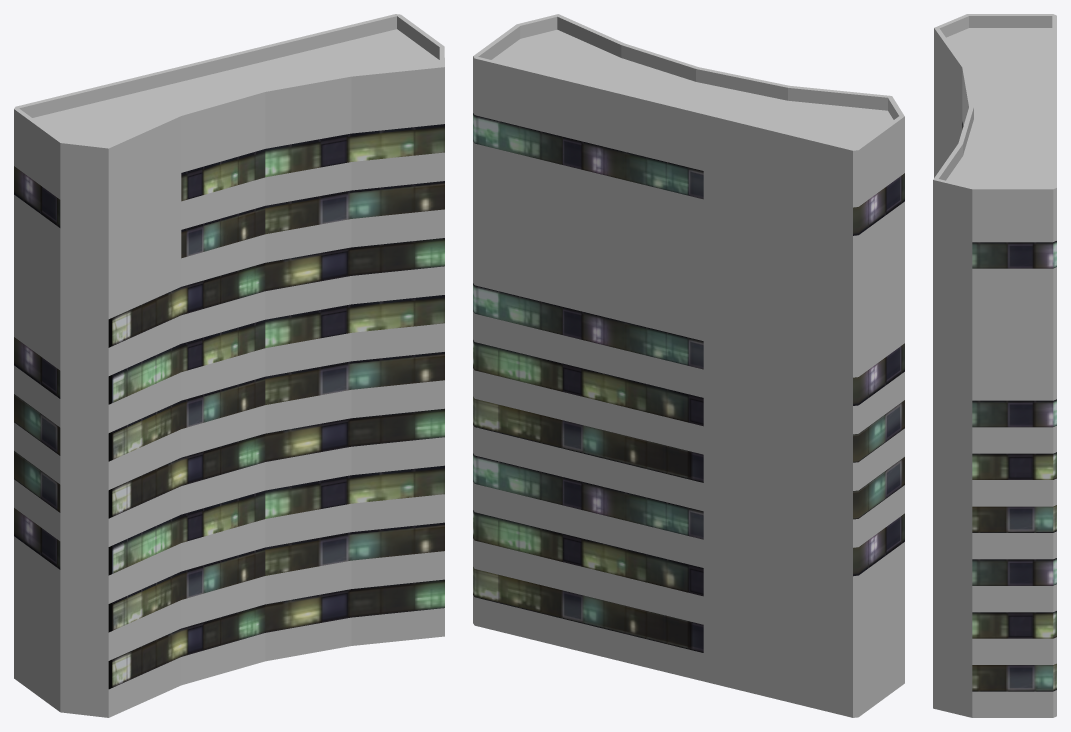
Rendered from hirise_13_9f.fbx.
3 views of the same model, side by side, from view 1: azimuth 30°, elevation 25°; view 2: azimuth 150°, elevation 25°; view 3: azimuth 270°, elevation 25° (orthographic). The views are drawn at different scales.
Parts seen in each view (by area): view 1: hirise_13_9f; view 2: hirise_13_9f; view 3: hirise_13_9f.
Part boxes in pixels (<box>): hirise_13_9f: <box>14,14,444,717</box>; hirise_13_9f: <box>473,14,904,717</box>; hirise_13_9f: <box>933,14,1056,717</box>.
Bounding box in the file's own units: 22.13 × 31.11 × 6.61.
